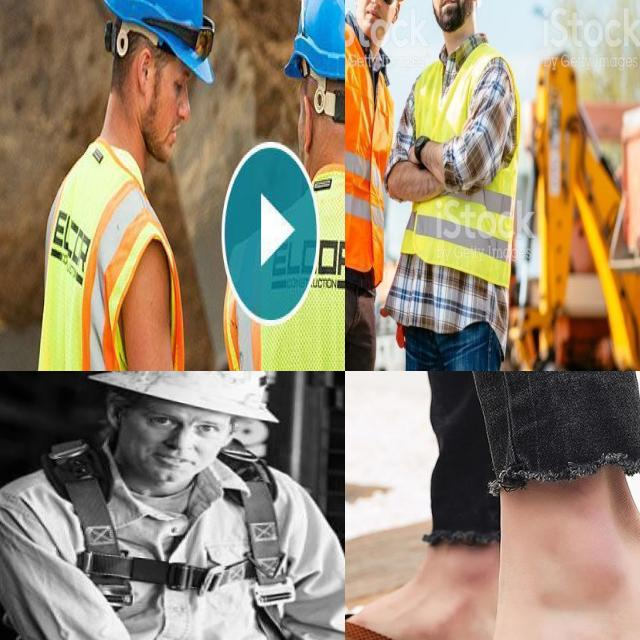Harness: (43, 440, 296, 608)
No_Ear-Protection: (296, 89, 316, 156), (136, 40, 153, 100)
face_nomask: (149, 45, 194, 159), (356, 0, 395, 46), (429, 0, 473, 30)
glasses: (359, 0, 398, 11)
head_helmet: (94, 0, 220, 79), (278, 0, 345, 76)
person: (26, 0, 218, 371), (223, 0, 345, 371), (406, 0, 511, 371), (345, 0, 397, 371)
vest: (41, 125, 179, 371), (410, 47, 520, 296), (240, 173, 345, 371), (345, 26, 387, 282)
